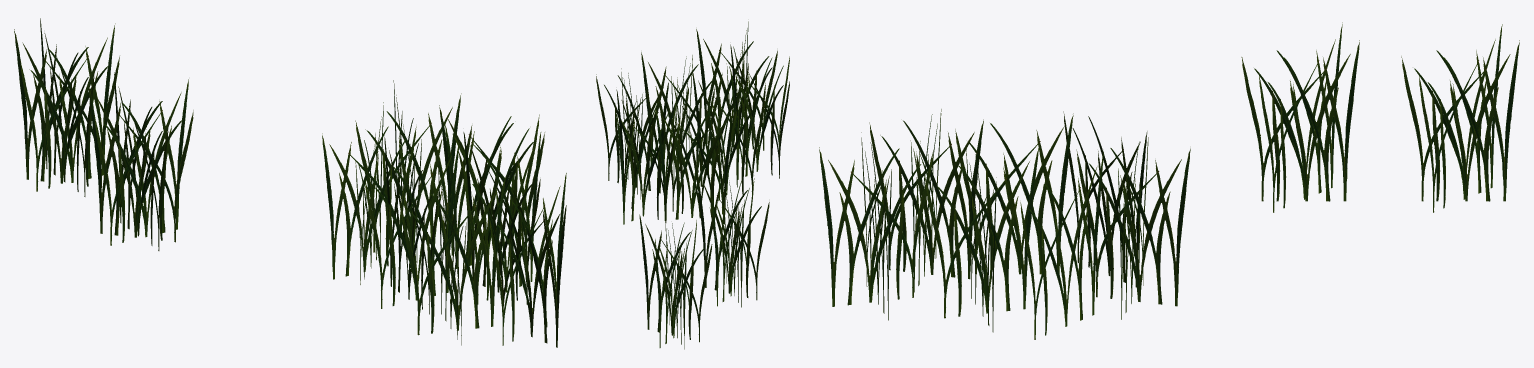
The model's file is Grass_01.fbx.
The picture shows the model from 3 angles, left to right: view 1: azimuth 30°, elevation 25°; view 2: azimuth 150°, elevation 25°; view 3: azimuth 270°, elevation 25°; orthographic projection. The views are drawn at different scales.
Visible parts, largest first — view 1: Grass_010, Grass_02, Grass_01; view 2: Grass_010, Grass_01, Grass_02; view 3: Grass_010, Grass_02, Grass_01.
Part boxes in pixels (<box>): Grass_010: <box>322,80,566,347</box>; Grass_02: <box>88,72,193,250</box>; Grass_01: <box>14,18,119,196</box>; Grass_010: <box>596,21,789,224</box>; Grass_01: <box>639,214,712,349</box>; Grass_02: <box>696,172,769,307</box>; Grass_010: <box>819,109,1190,339</box>; Grass_02: <box>1241,22,1359,212</box>; Grass_01: <box>1401,24,1519,212</box>.
Bounding box in the file's own units: 10.52 × 4.48 × 17.54.
